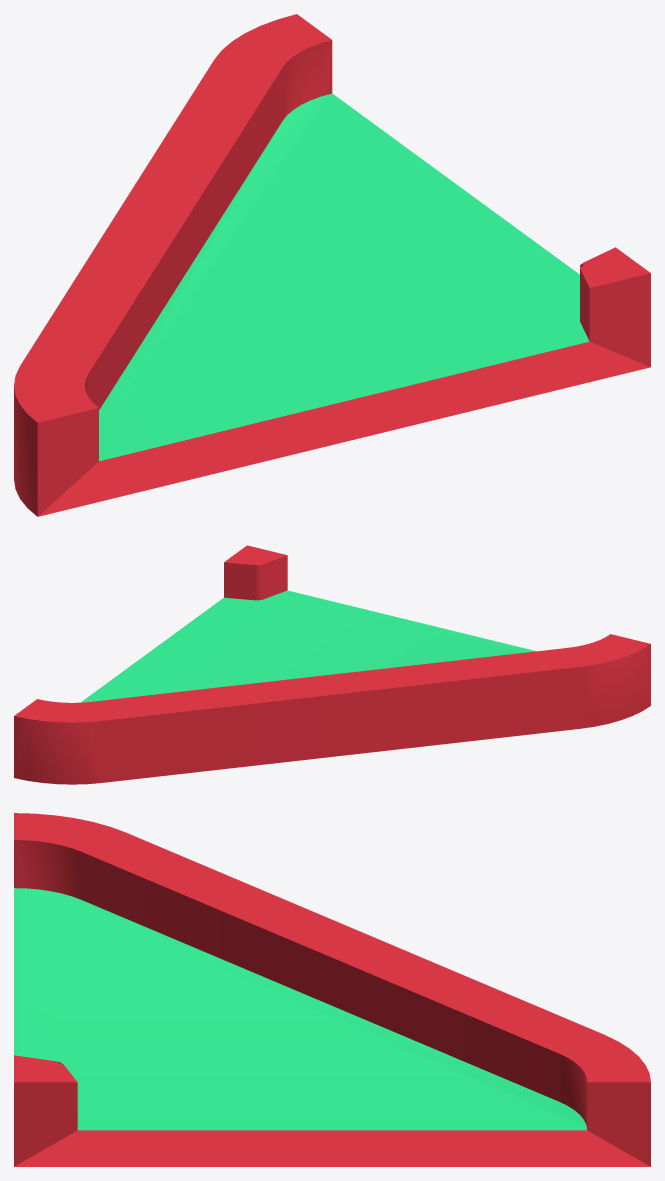
The model's file is skewCorner.fbx.
3 views of the same model, one above another, from view 1: azimuth 30°, elevation 25°; view 2: azimuth 150°, elevation 25°; view 3: azimuth 270°, elevation 25° (orthographic). The views are drawn at different scales.
Parts seen in each view (by area): view 1: skewCorner; view 2: skewCorner; view 3: skewCorner.
Boxes of the visible parts, bbox=[...] form: skewCorner: bbox=[14, 14, 650, 516]; skewCorner: bbox=[14, 545, 650, 784]; skewCorner: bbox=[14, 813, 650, 1166].
Bounding box in the file's own units: 99.99 × 99.99 × 14.67.
